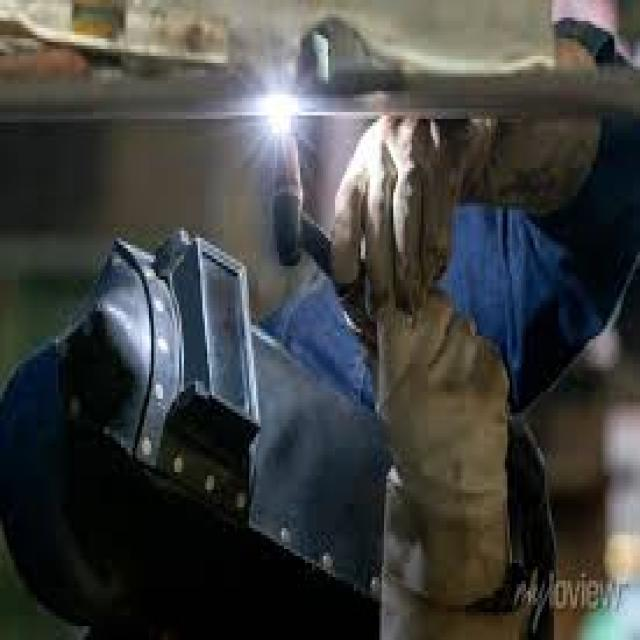welding: (260, 92, 298, 135)
